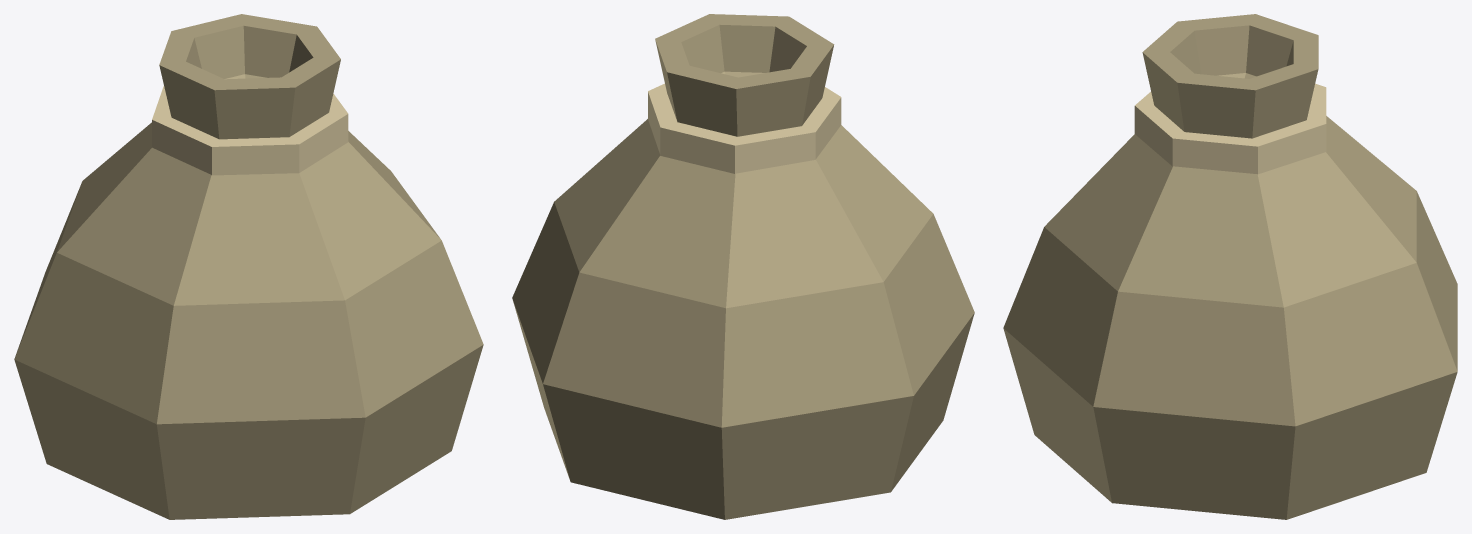
File: Bag_1.fbx
3 renders of one model, left to right at view 1: azimuth 30°, elevation 25°; view 2: azimuth 150°, elevation 25°; view 3: azimuth 270°, elevation 25°, orthographic.
Parts seen in each view (by area): view 1: Bag_1; view 2: Bag_1; view 3: Bag_1.
Part boxes in pixels (x1,y1,x2,y2): Bag_1: [14, 14, 483, 519]; Bag_1: [512, 14, 974, 519]; Bag_1: [1003, 14, 1457, 519].
Size of the model in its own units: 32.19 by 29.18 by 31.39.
1 material, 1 textured.
